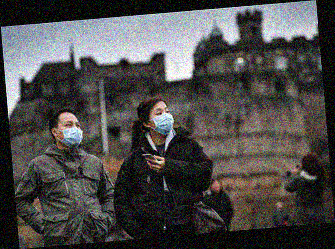with_mask: (57, 118, 84, 149), (150, 106, 175, 136)
without_mask: (210, 177, 222, 192)
